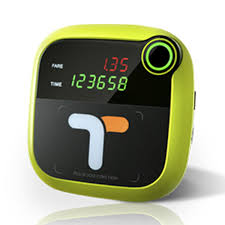terminal: (23, 22, 200, 205)
